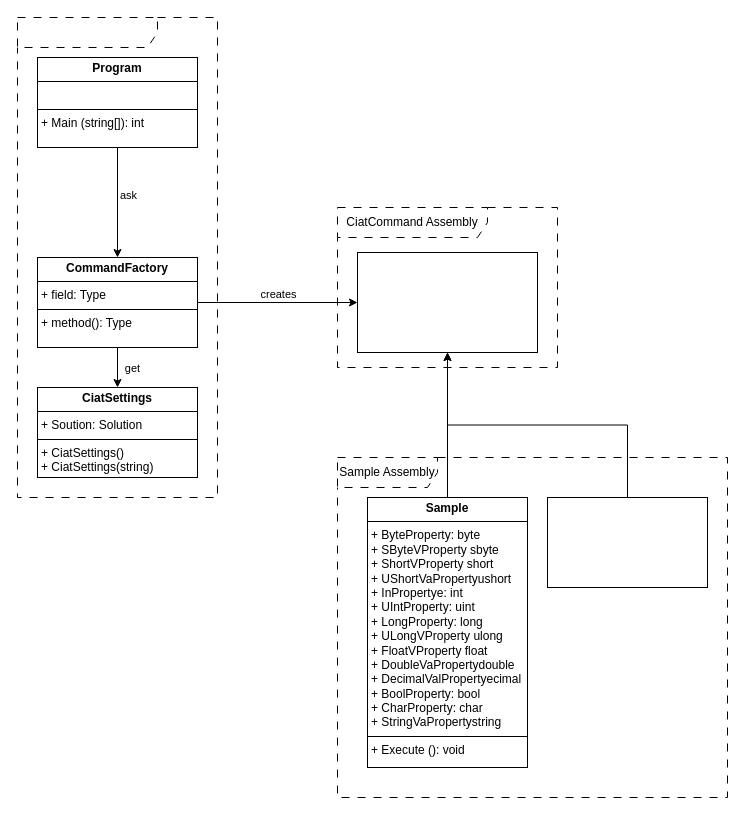
Some shapes in this 745 by 815 pixel diagram are drawn without their labels. The shapes that lost their labels are listed below. From the top down, each one's box as (x1, y1, x2, y2) in pixels, then its label:
(16, 16, 218, 498): CiatLauncher Assembly
(356, 252, 538, 352): <<Interface>> IciatCommand + Execute (): void
(546, 496, 708, 588): Empty + Execute(): void
